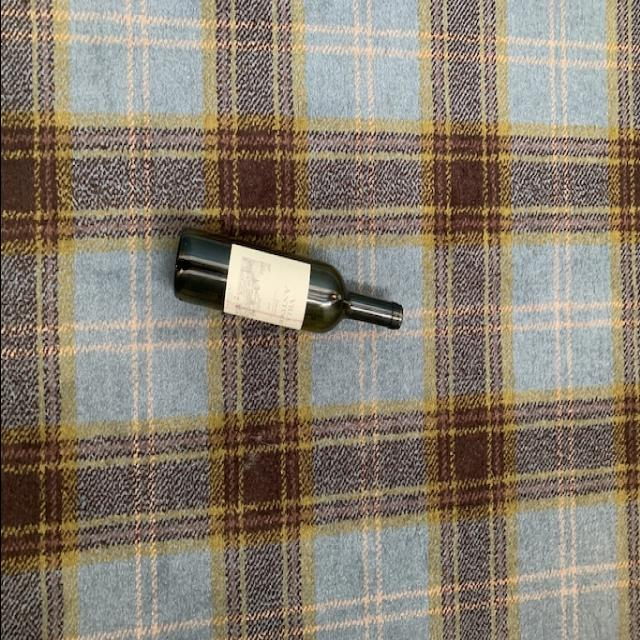Glass Bottle: (170, 224, 403, 338)
